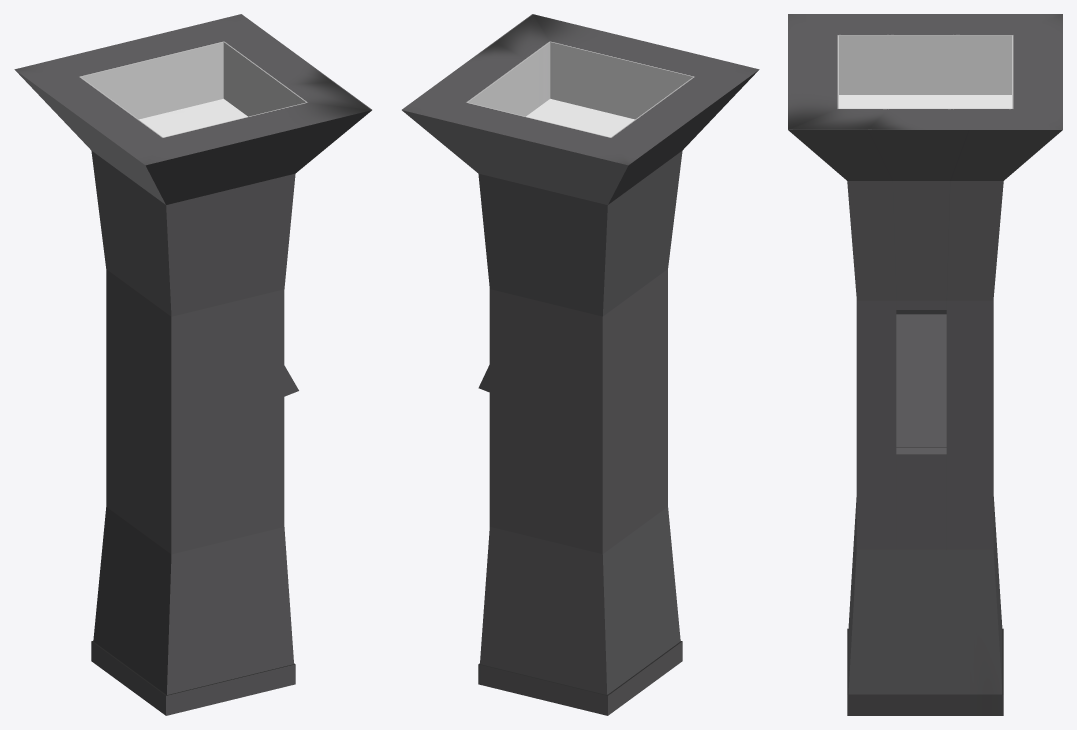
The model's file is flash_light.gltf.
The picture shows the model from 3 angles, left to right: view 1: azimuth 30°, elevation 25°; view 2: azimuth 150°, elevation 25°; view 3: azimuth 270°, elevation 25°; orthographic projection. The views are drawn at different scales.
Visible parts, largest first — view 1: Cube; view 2: Cube; view 3: Cube.
Boxes of the visible parts, x1=… form: Cube: x1=14, y1=14, x2=371, y2=715; Cube: x1=402, y1=14, x2=759, y2=715; Cube: x1=788, y1=14, x2=1062, y2=715.
Bounding box in the file's own units: 3.51 × 8.61 × 3.51.
1 material, 1 textured.
